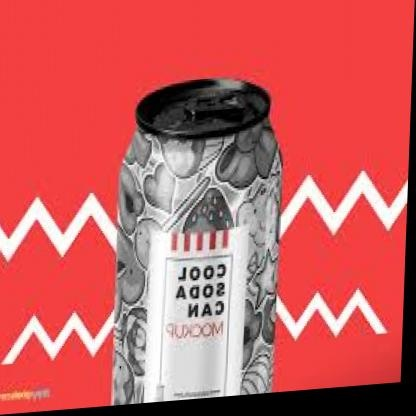trash: (114, 79, 281, 403)
